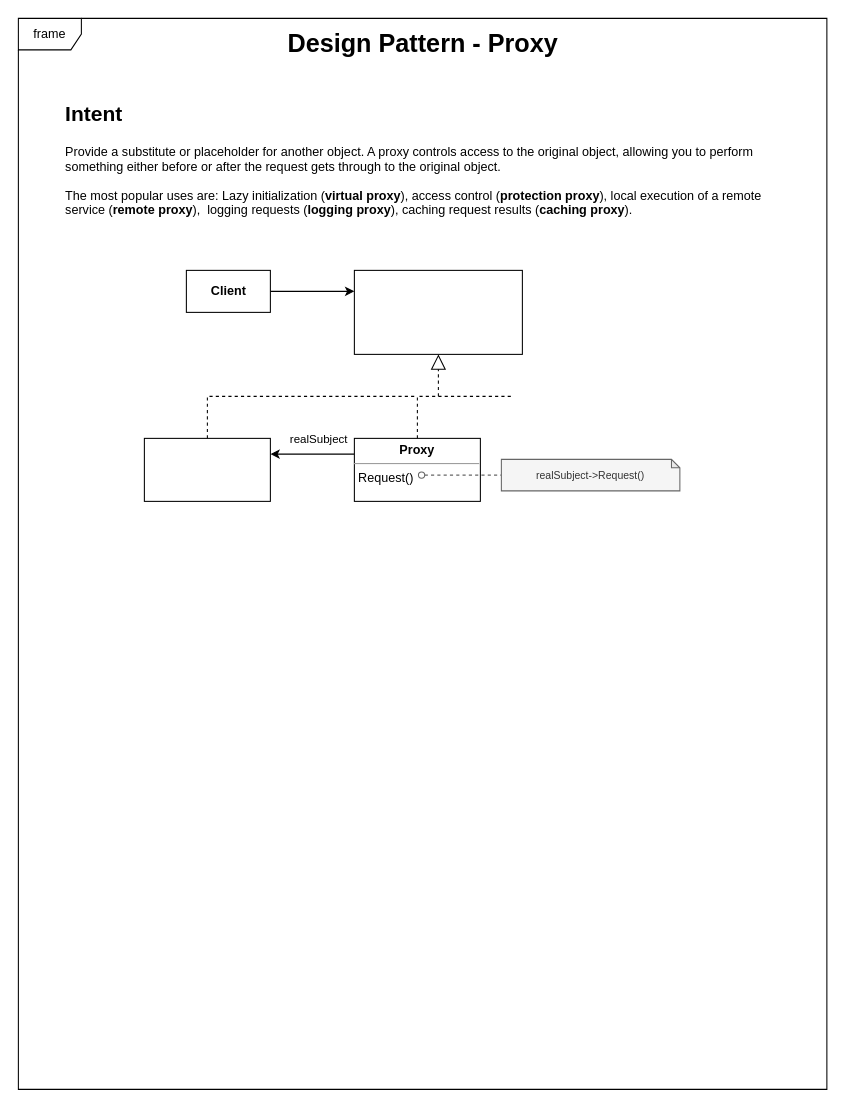
This 845x1108 diagram has some shape labels left out. Each missing label, with the centre of its shape:
<<Interface>> Subject Request(): point (437, 311)
RealSubject Request(): point (206, 469)
